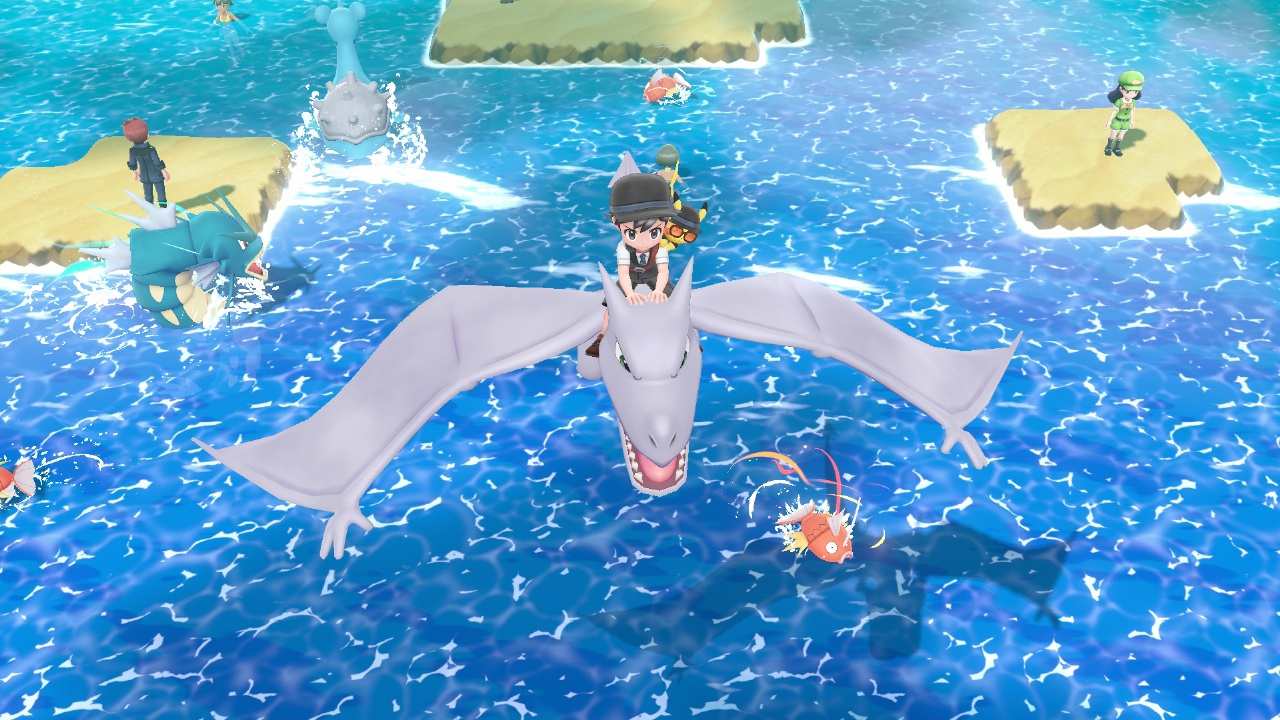Red: (785, 500, 856, 564), (1, 452, 38, 505), (641, 68, 693, 105)
